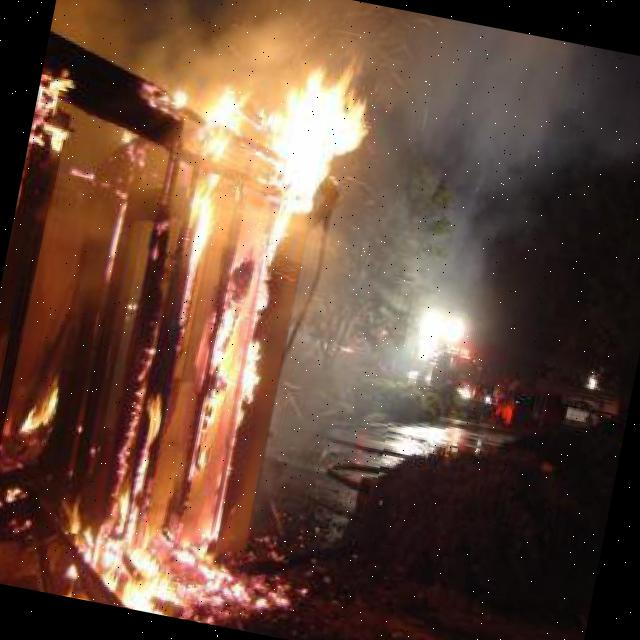fire: (0, 0, 458, 640)
